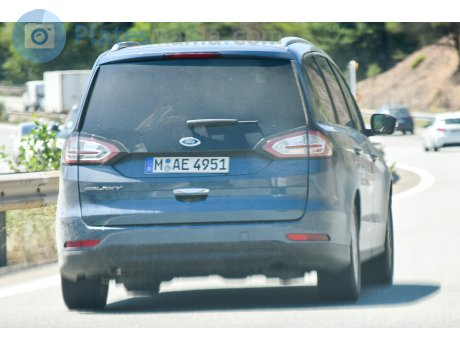License Plates: (152, 155, 229, 168)
